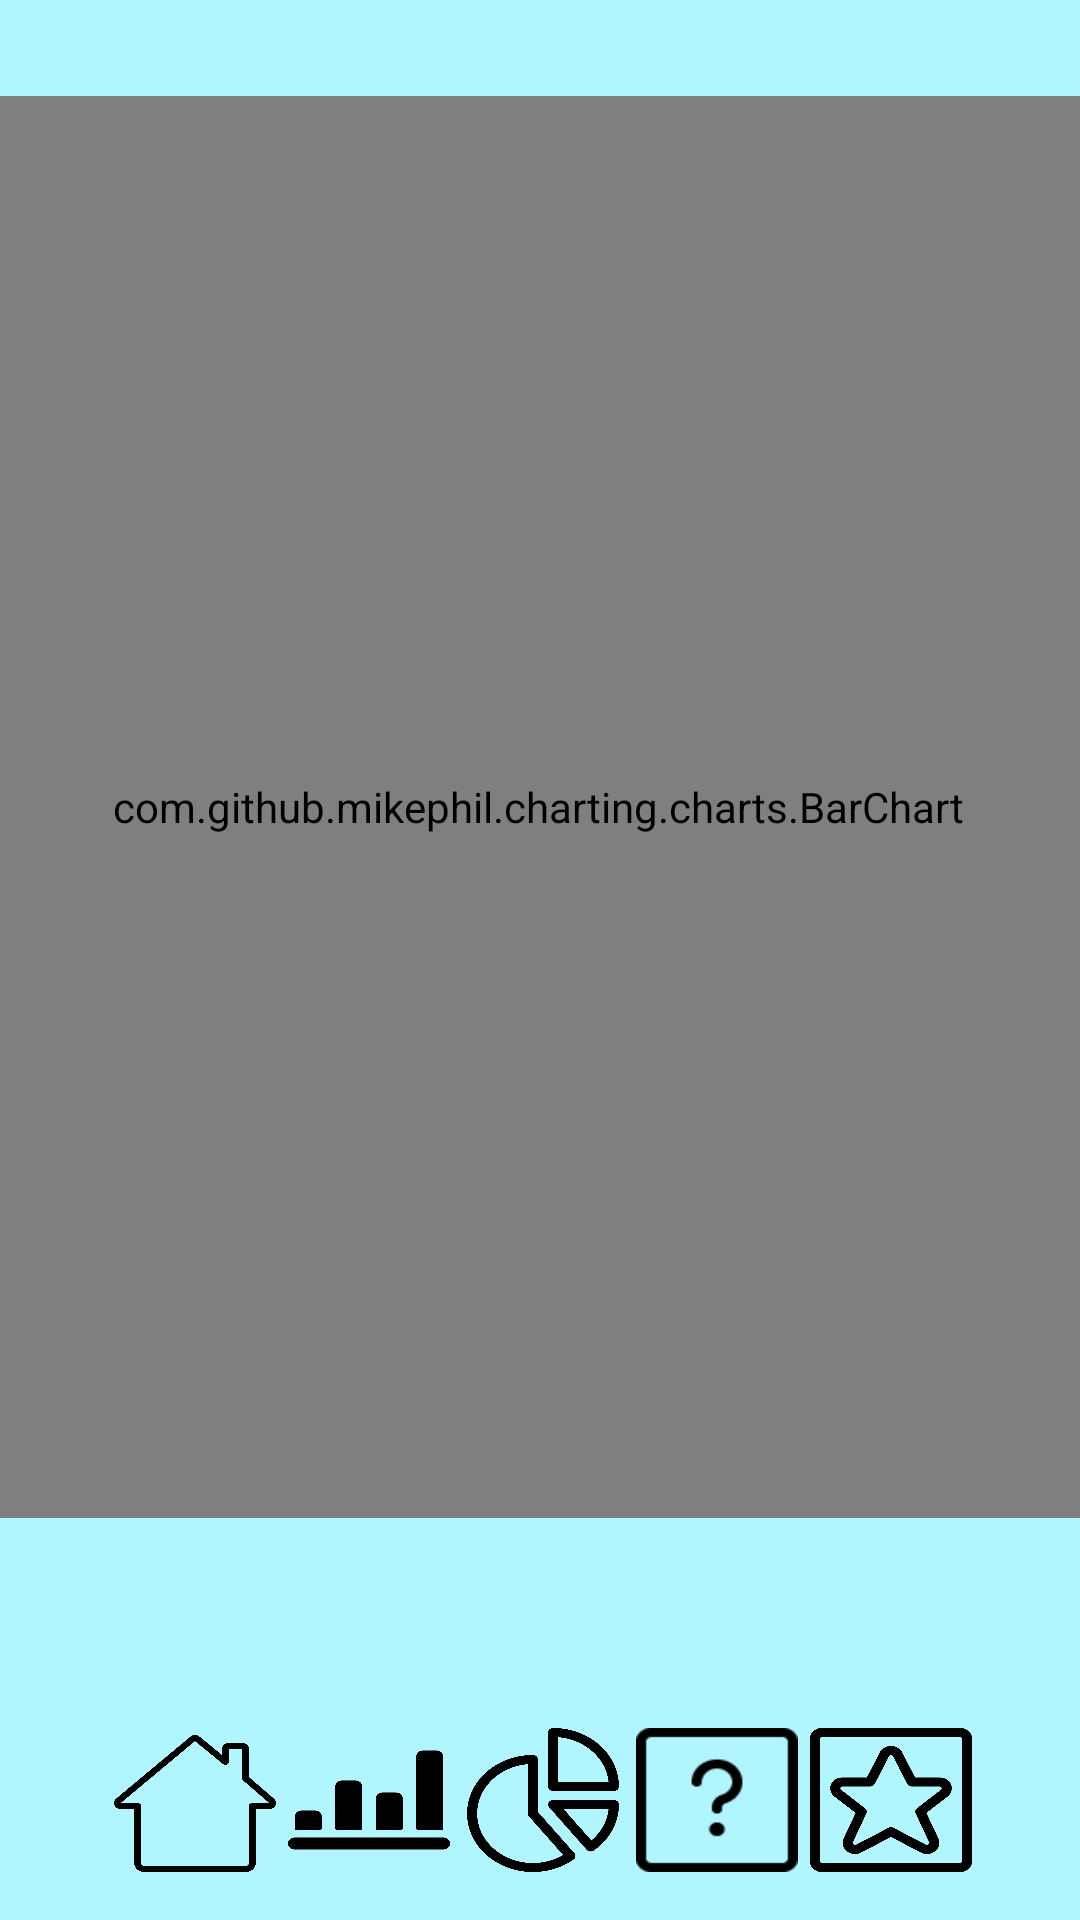

Named icons in this screenshot (1080x1920) and their bounding boxes, {"left": x1, "top": y1, "right": x2, "bottom": y2}:
analytics bars: {"left": 288, "top": 1750, "right": 450, "bottom": 1850}
analytics pie: {"left": 467, "top": 1728, "right": 619, "bottom": 1872}
house chimney: {"left": 114, "top": 1735, "right": 276, "bottom": 1872}
question help square: {"left": 636, "top": 1728, "right": 798, "bottom": 1872}
